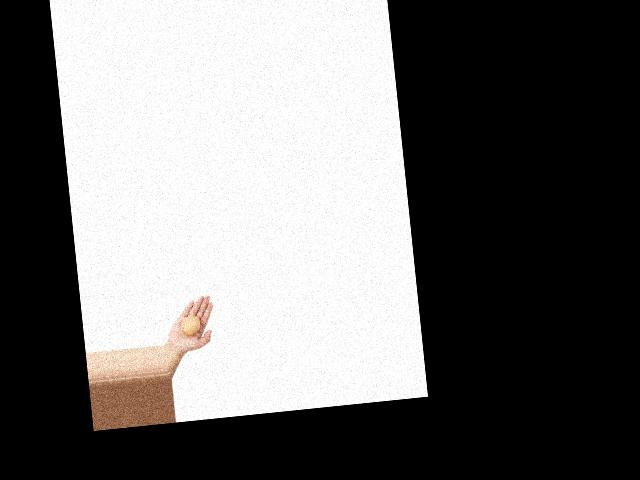egg: (180, 315, 201, 337)
